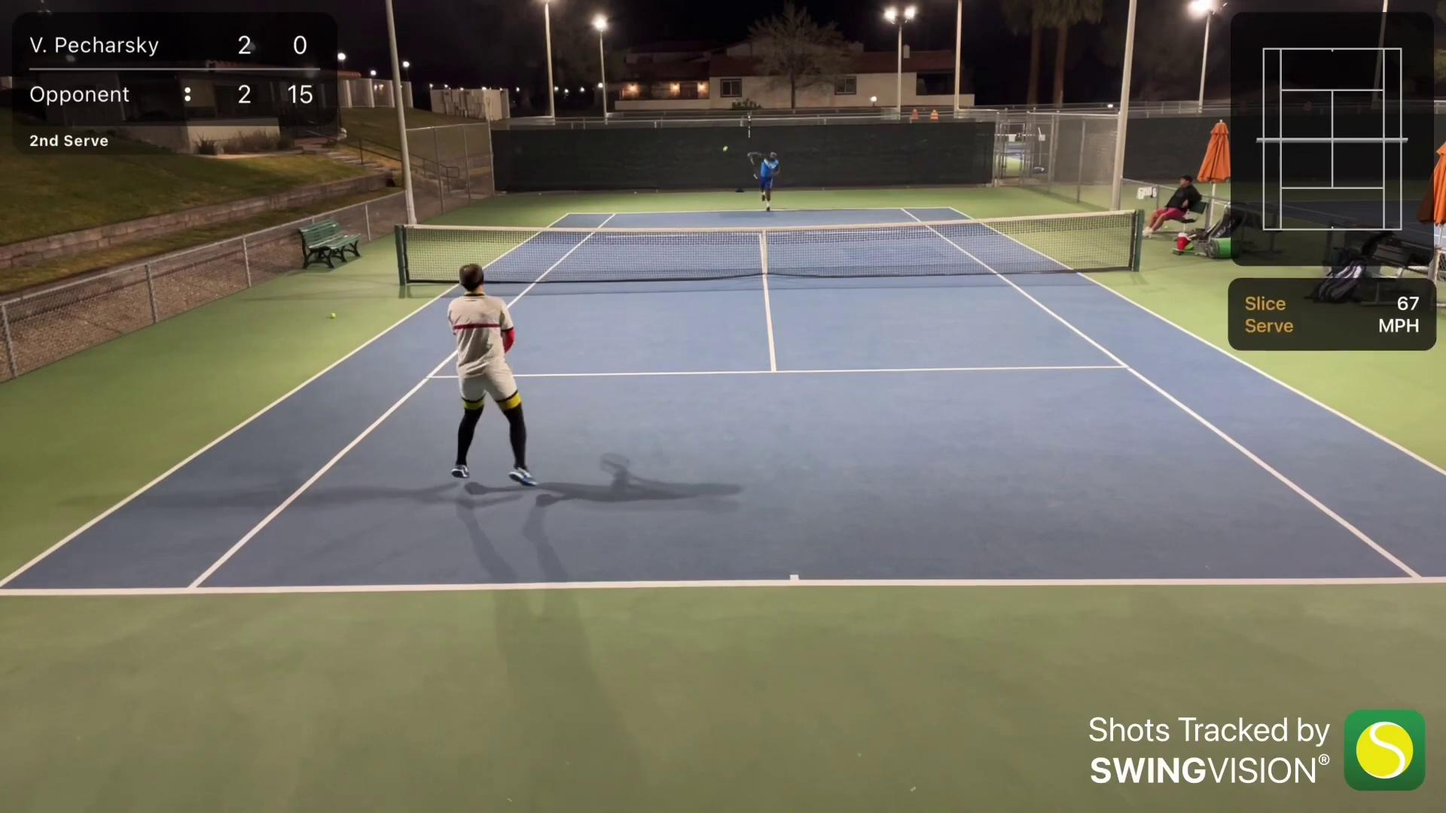ball: (328, 311, 340, 324), (719, 146, 731, 152)
